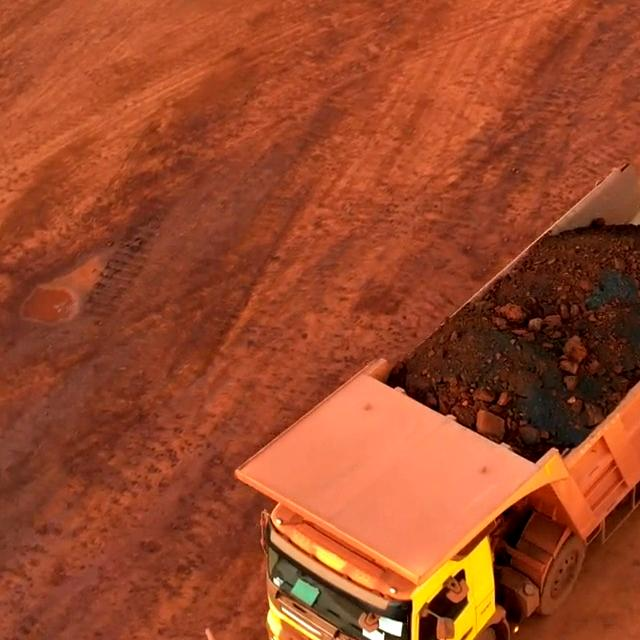Dumper truck: (357, 276, 640, 477), (261, 434, 513, 640)
